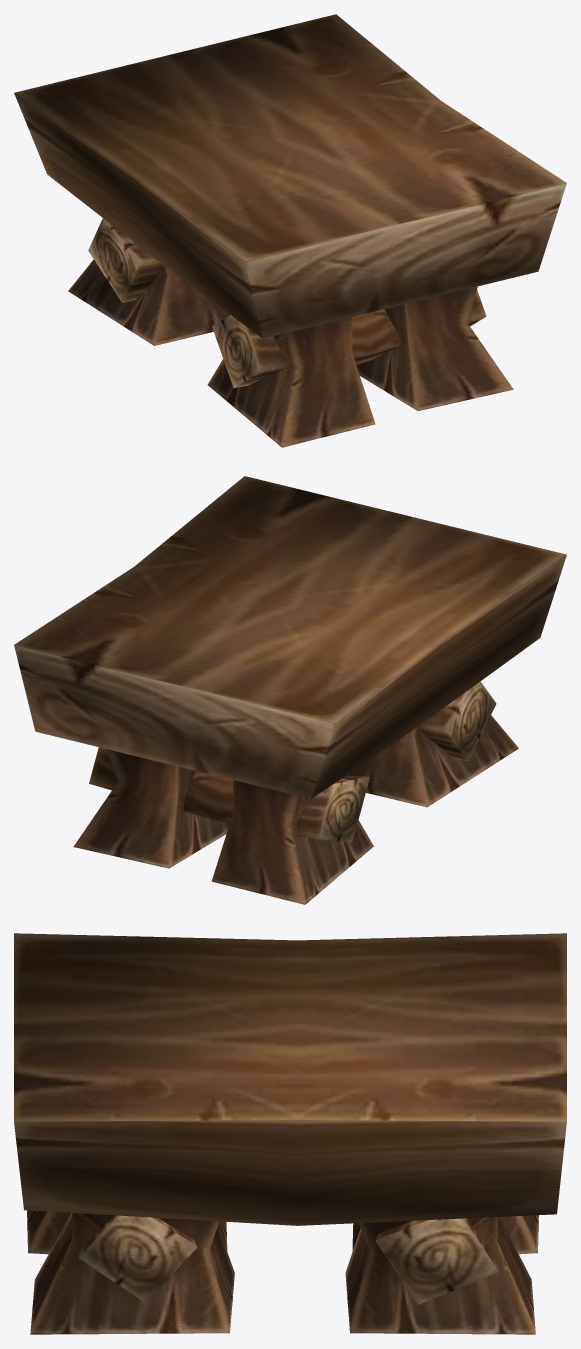
3 views of the same model, one above another, from view 1: azimuth 30°, elevation 25°; view 2: azimuth 150°, elevation 25°; view 3: azimuth 270°, elevation 25° (orthographic). The views are drawn at different scales.
Bounding box in the file's own units: 0.719 × 0.4275 × 0.8919.
Materials: 2 (2 with a texture image).
